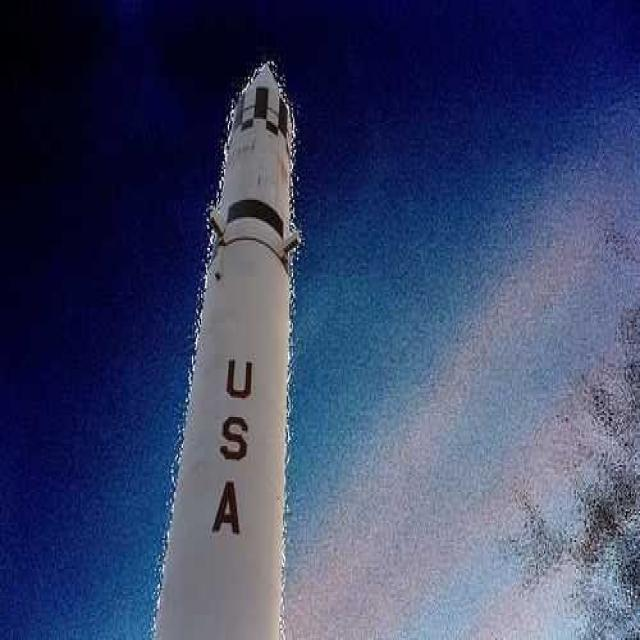missile: (145, 61, 299, 640)
